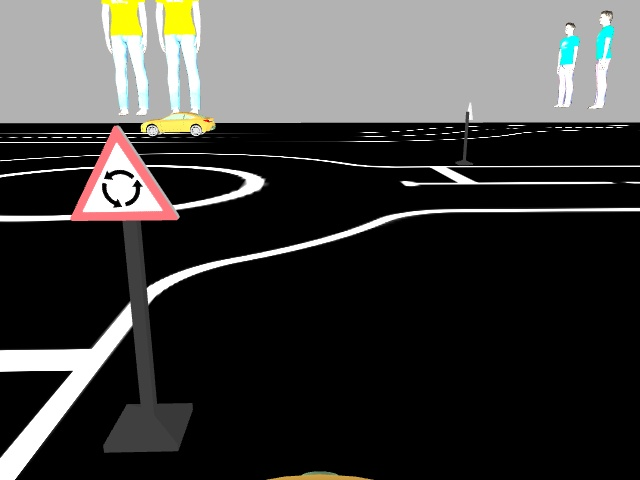Roundabout: (64, 124, 180, 222)
